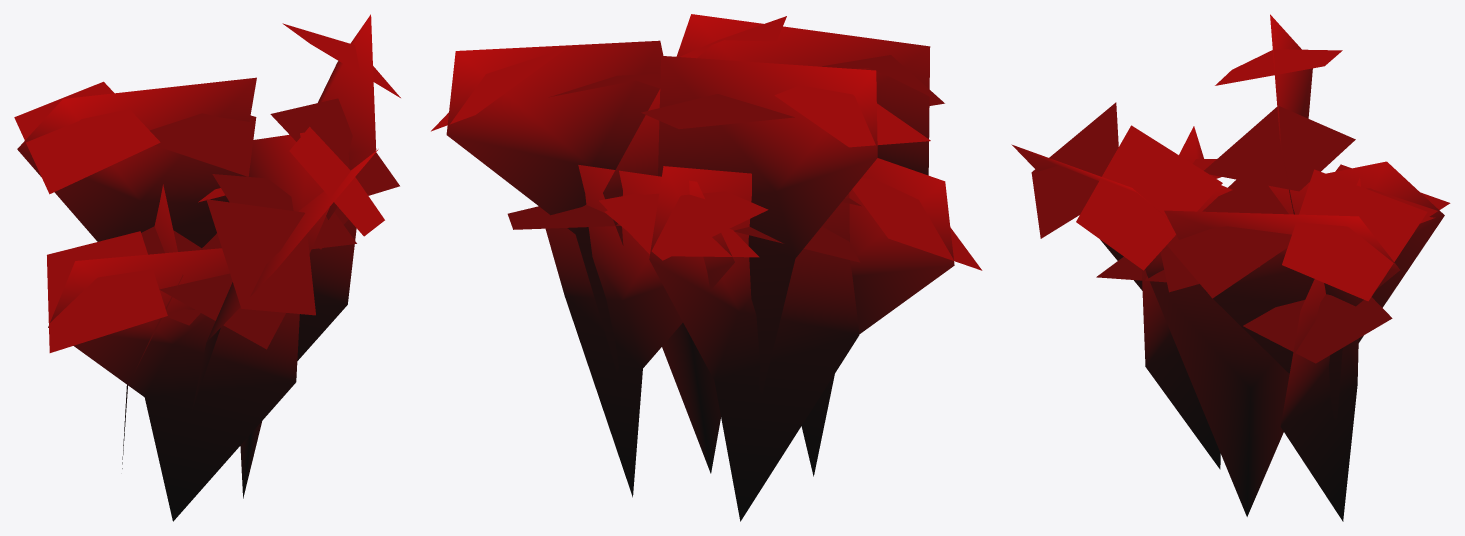
File: Carot2.fbx
3 renders of one model, left to right at view 1: azimuth 30°, elevation 25°; view 2: azimuth 150°, elevation 25°; view 3: azimuth 270°, elevation 25°, orthographic. The views are drawn at different scales.
Visible parts, largest first — view 1: Carot2; view 2: Carot2; view 3: Carot2.
Part boxes in pixels (<box>): Carot2: <box>14,14,400,521</box>; Carot2: <box>431,14,982,521</box>; Carot2: <box>1011,14,1450,521</box>.
Size of the model in its own units: 48.33 by 46.5 by 43.76.
